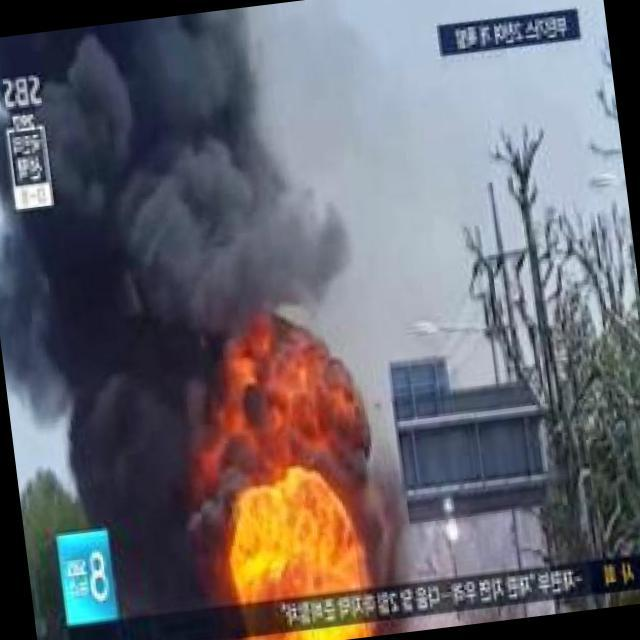Fire: (229, 482, 376, 610), (239, 626, 381, 640)
